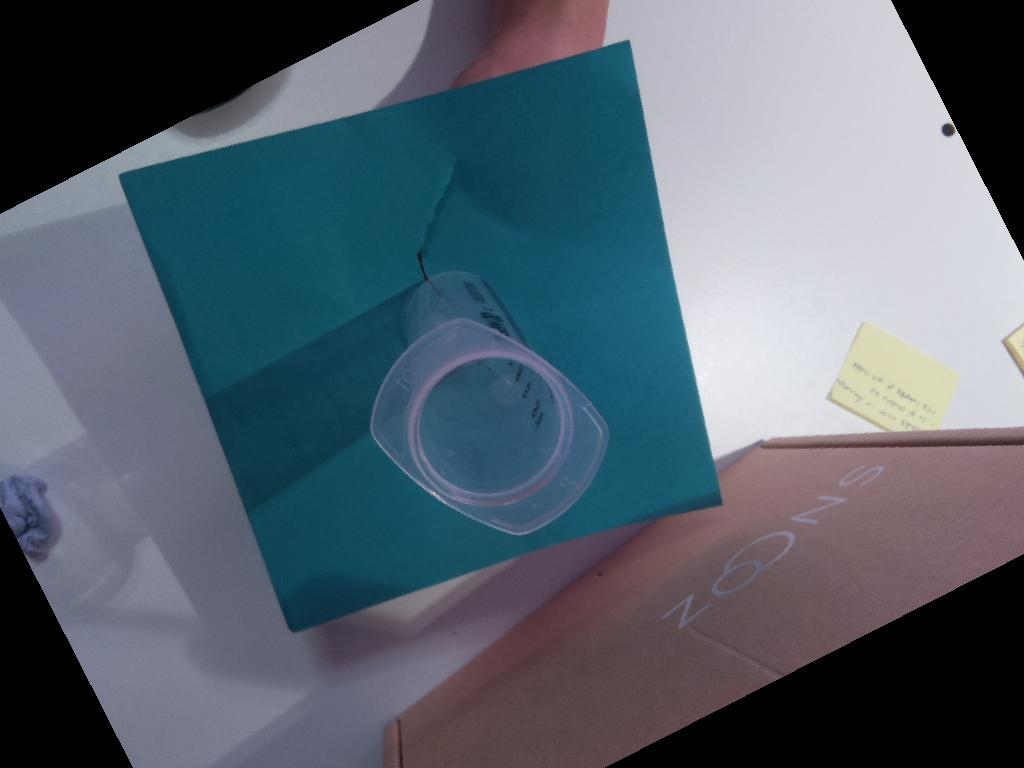clean: (368, 313, 611, 538)
